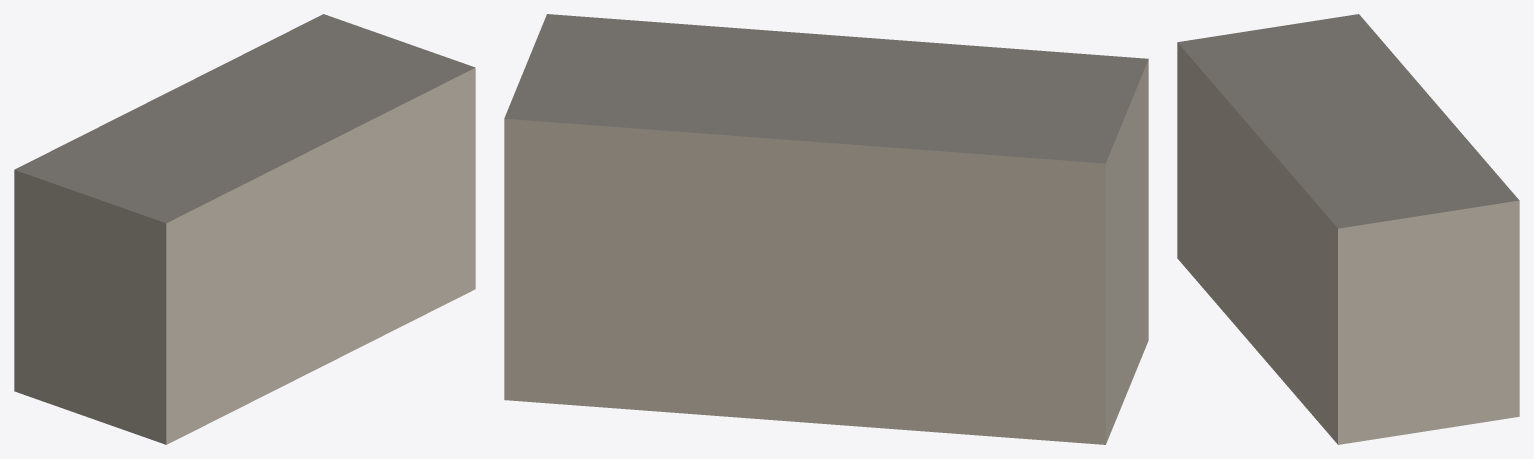
3 views of the same model, side by side, from view 1: azimuth 30°, elevation 25°; view 2: azimuth 150°, elevation 25°; view 3: azimuth 270°, elevation 25° (orthographic). The views are drawn at different scales.
Parts seen in each view (by area): view 1: HP-w446933514; view 2: HP-w446933514; view 3: HP-w446933514.
Boxes of the visible parts, x1=… form: HP-w446933514: x1=14, y1=14, x2=475, y2=444; HP-w446933514: x1=504, y1=14, x2=1148, y2=444; HP-w446933514: x1=1177, y1=14, x2=1519, y2=444.
Bounding box in the file's own units: 38.31 × 18 × 25.8.
